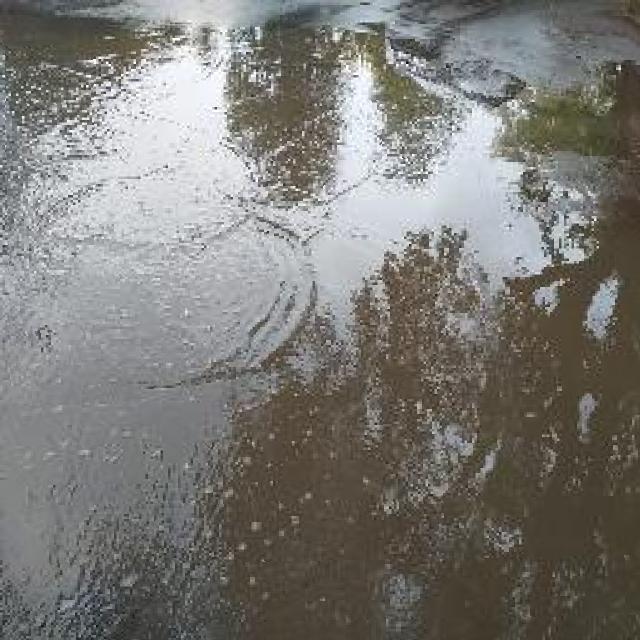puddle: (7, 19, 640, 640)
